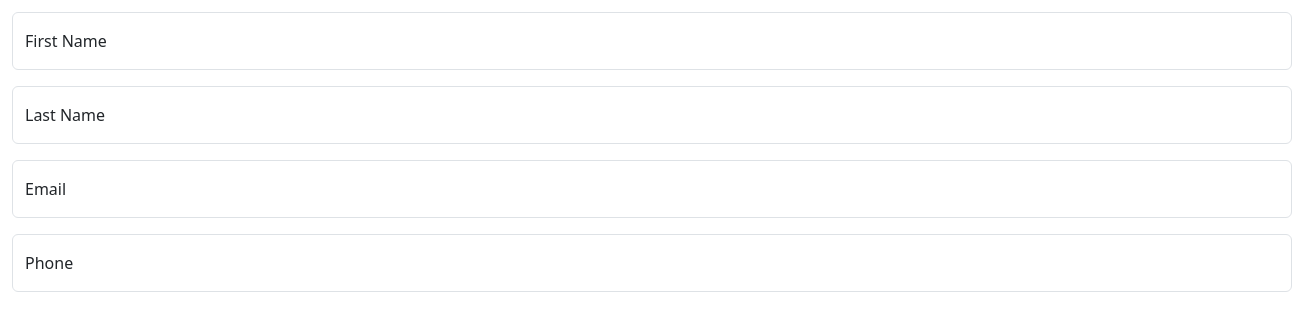
ContactForm › blocks spaces in email field
The width and height of the screenshot is (1304, 309).
Type "test space@example.com" into the field with placeholder "Email".
click(652, 189); type("test space@example.com")  # box x1=12 y1=160 x2=1292 y2=218
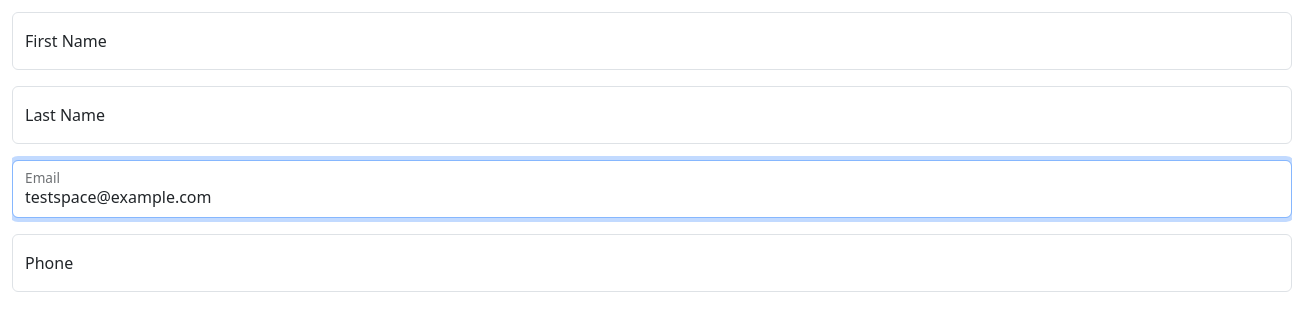
Now the field with placeholder "Email" holds "testspace@example.com", box x1=12 y1=160 x2=1292 y2=218
